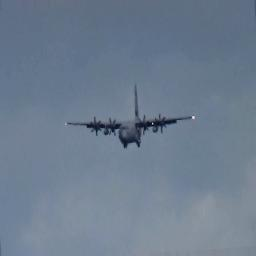Airplane: (64, 83, 196, 150)
